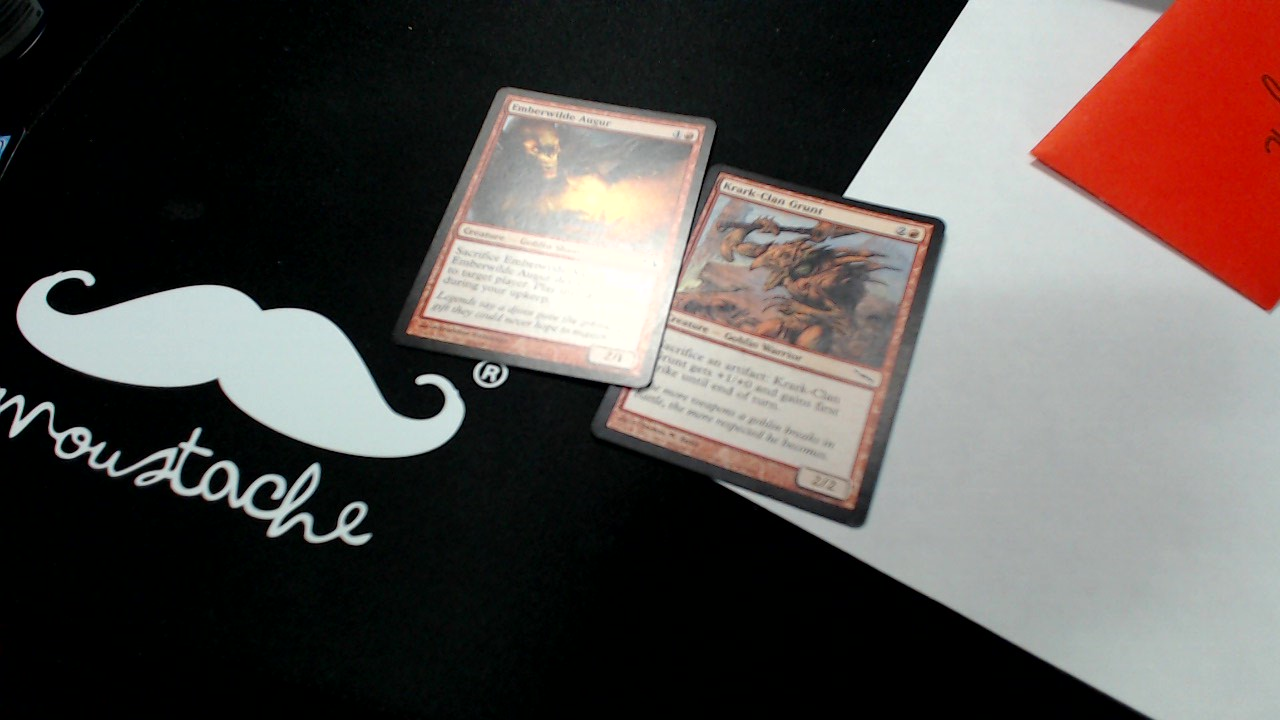MTG Card: (586, 162, 948, 535), (390, 77, 718, 392)
